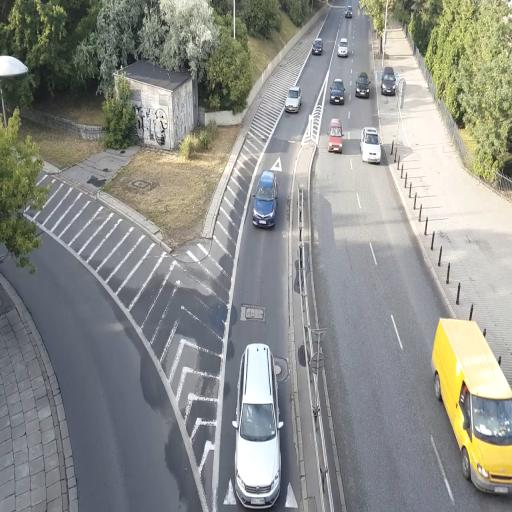vehicle: (432, 316, 512, 496), (233, 342, 282, 508), (251, 171, 278, 231), (360, 126, 381, 163), (380, 67, 398, 96), (328, 119, 343, 153), (284, 86, 302, 114), (329, 79, 345, 104), (356, 72, 370, 98), (336, 37, 350, 58), (312, 37, 324, 56)
